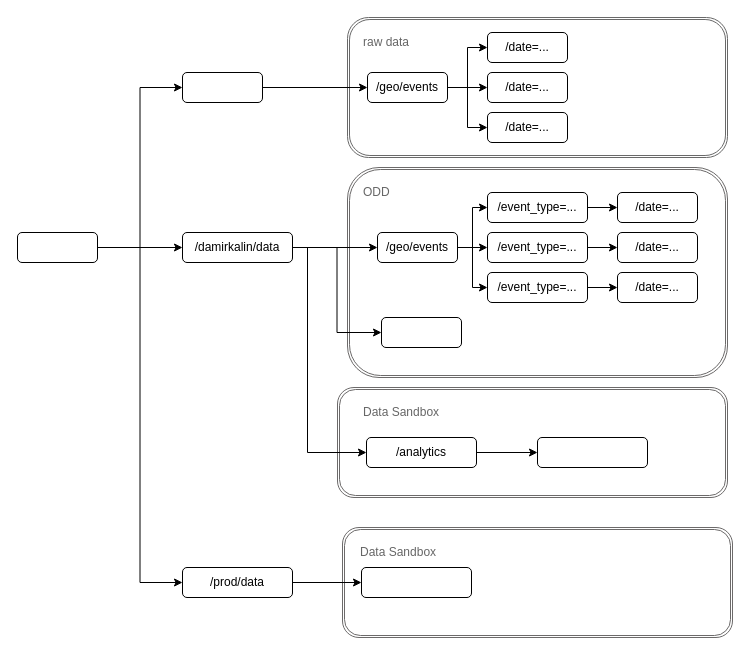
Image size: 750x655. Some labels were removed from this diagram. Here are the shapes that lost their labels. From the top down, the centre of each, then its label:
(x=222, y=87): /master/data
(x=57, y=247): /user
(x=421, y=332): /geo/geo
(x=592, y=452): /users_geo
(x=416, y=582): /table/example
